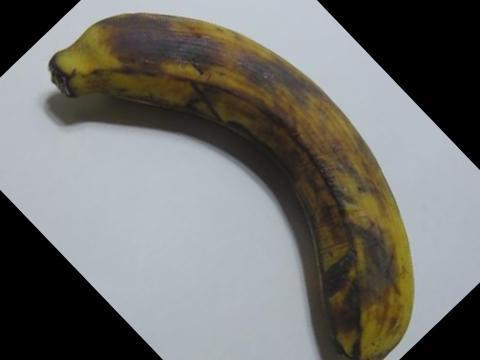overripe: (29, 3, 425, 359)
